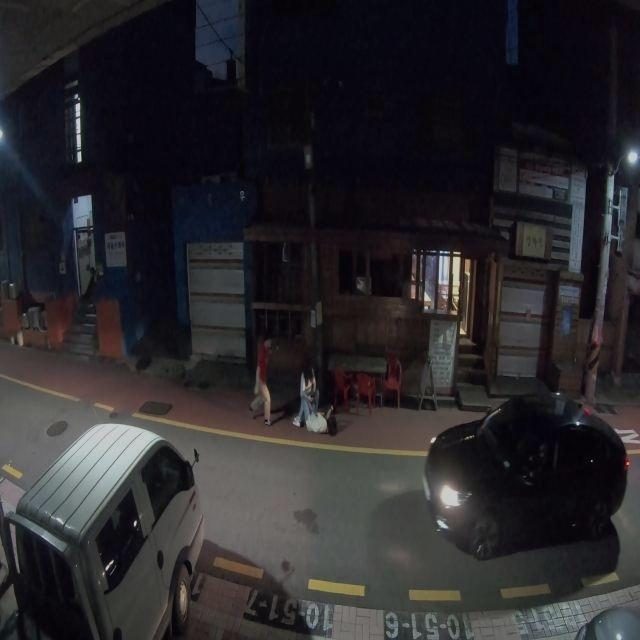fight: (292, 358, 339, 434)
non-fight: (252, 334, 274, 426)
